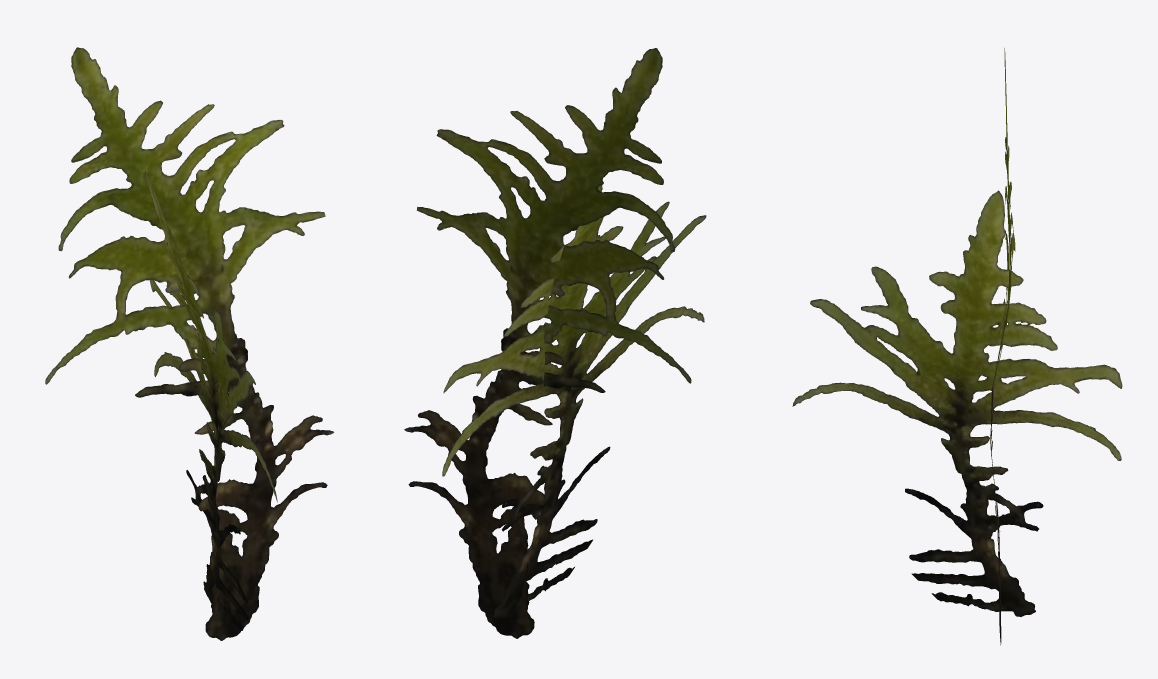
Rendered from moss_01_e_LOD1.glb.
3 views of the same model, side by side, from view 1: azimuth 30°, elevation 25°; view 2: azimuth 150°, elevation 25°; view 3: azimuth 270°, elevation 25° (orthographic). The views are drawn at different scales.
Parts seen in each view (by area): view 1: moss_01_e_LOD1__lod0; view 2: moss_01_e_LOD1__lod0; view 3: moss_01_e_LOD1__lod0.
Boxes of the visible parts, x1=… form: moss_01_e_LOD1__lod0: x1=45, y1=47, x2=333, y2=640; moss_01_e_LOD1__lod0: x1=404, y1=48, x2=706, y2=638; moss_01_e_LOD1__lod0: x1=792, y1=48, x2=1122, y2=645.
Size of what is drawn, in the model's own units: 0.0112 by 0.0216 by 0.0127.
1 material, 1 textured.
